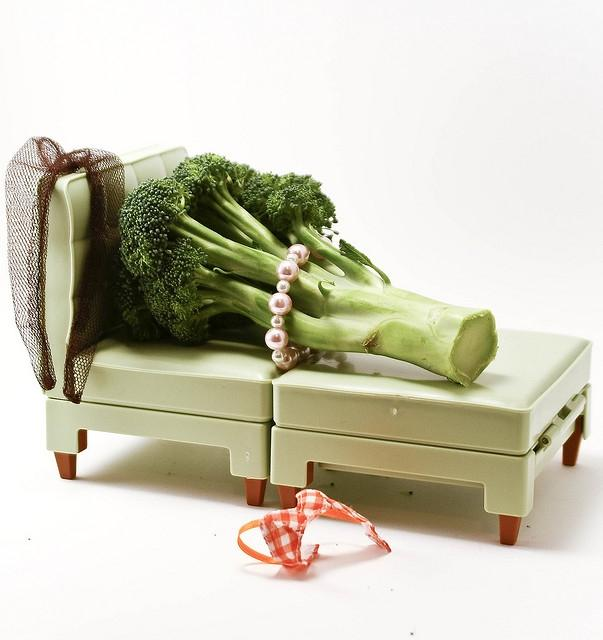broccoli: (113, 152, 498, 388)
